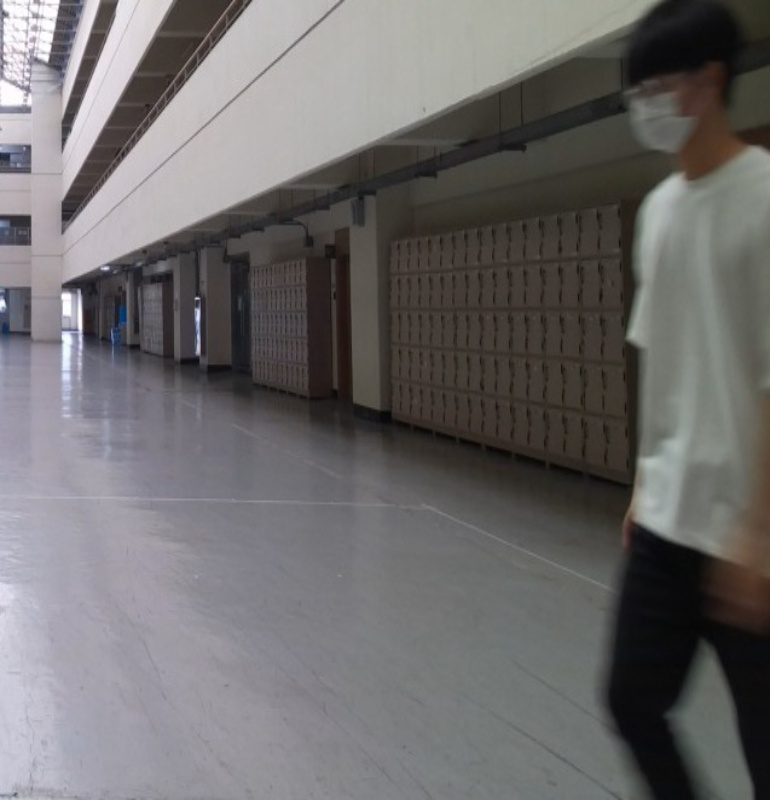person: (597, 4, 770, 799)
